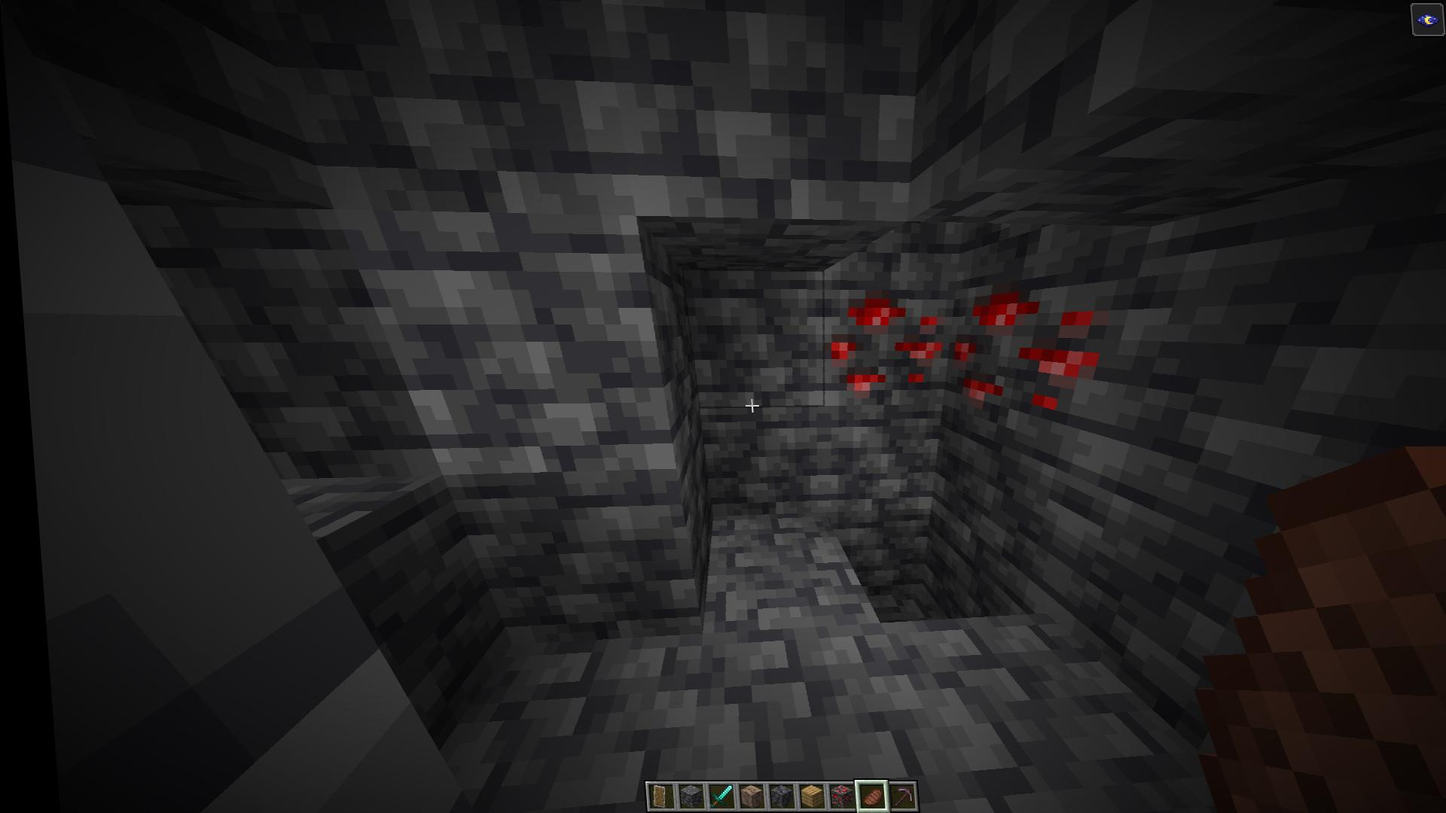redstone ore: (936, 280, 1101, 425), (804, 287, 947, 412)
